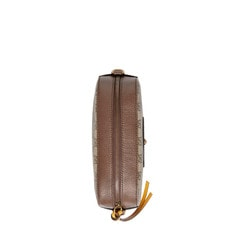Gucci: (86, 64, 162, 220)
